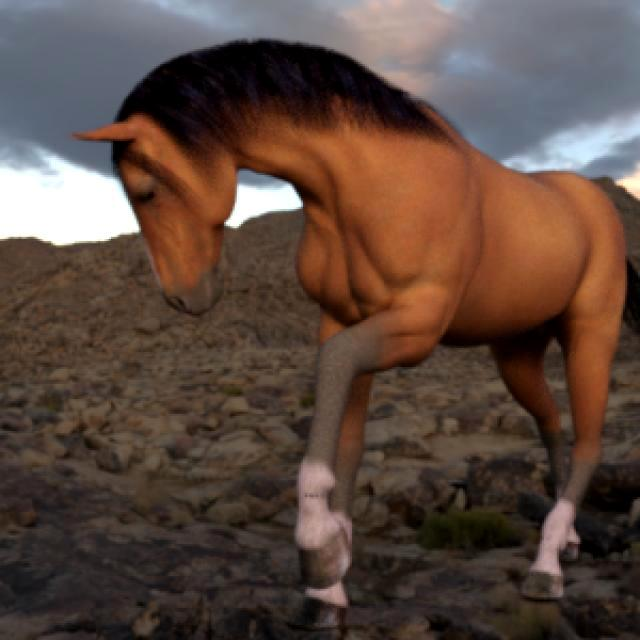horse: (75, 41, 626, 628), (628, 271, 640, 324)
